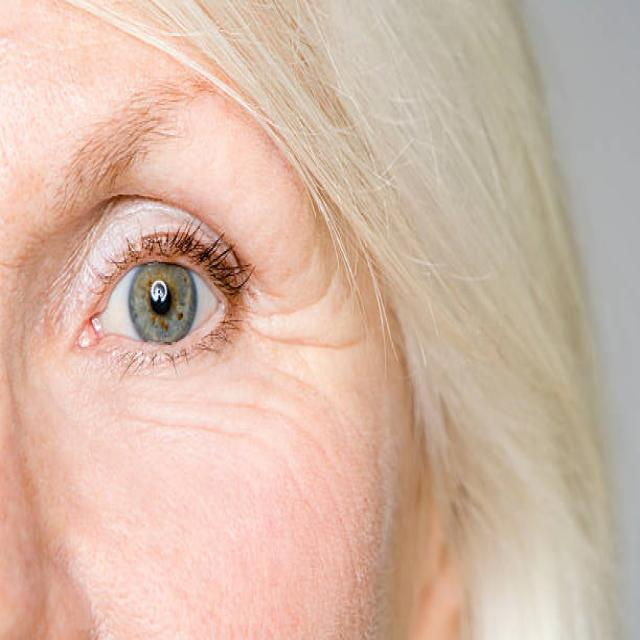Dry-Skin: (235, 241, 426, 640)
